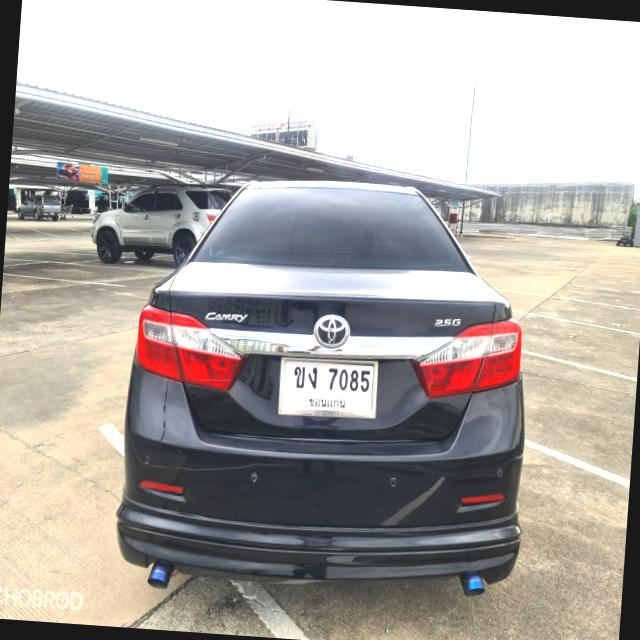license_plate: (276, 351, 382, 424)
